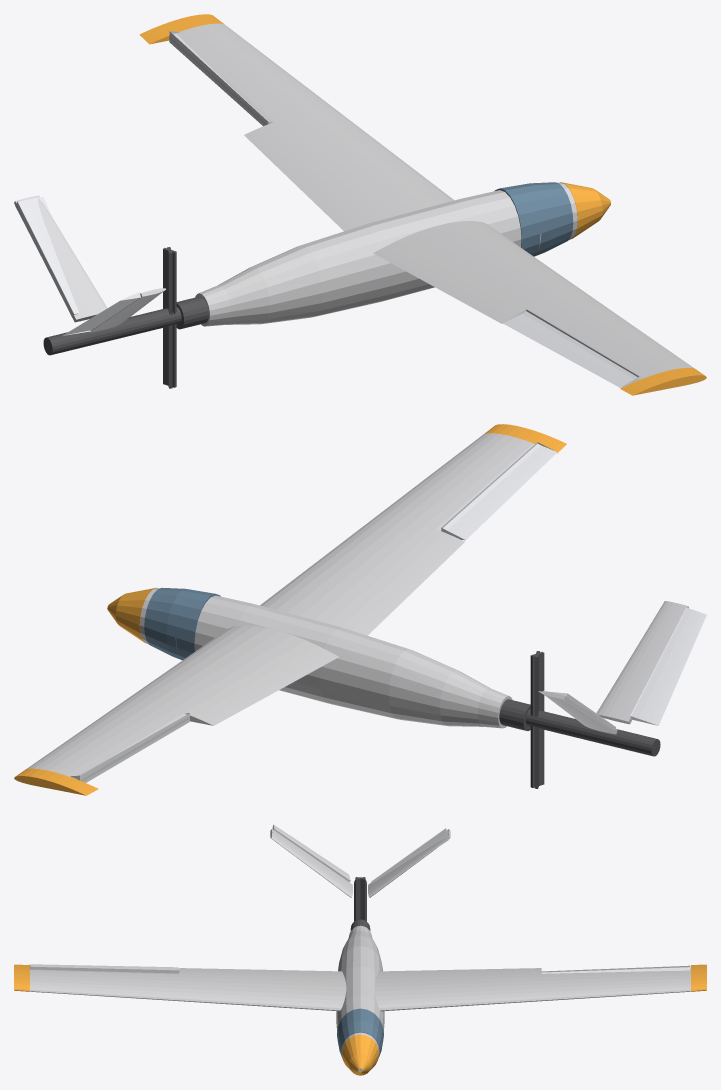
Rendered from talon_vtail.glb.
The picture shows the model from 3 angles, top to bottom: view 1: azimuth 30°, elevation 25°; view 2: azimuth 150°, elevation 25°; view 3: azimuth 270°, elevation 25°; orthographic projection. The views are drawn at different scales.
Parts seen in each view (by area): view 1: base_link_v0, base_link_v8, base_link_v5, base_link_v9, base_link_v6, base_link_v2, aileron_r_v0, base_link_v12, base_link_v3, ruddervator_l_v0, propeller_v0, base_link_v1 (+6 smaller); view 2: base_link_v0, base_link_v5, base_link_v8, base_link_v6, base_link_v9, base_link_v11, base_link_v2, ruddervator_r_v0, aileron_r_v0, base_link_v3, propeller_v0, base_link_v1 (+5 smaller); view 3: base_link_v5, base_link_v8, base_link_v6, base_link_v9, base_link_v0, base_link_v2, base_link_v1, base_link_v11, aileron_r_v0, base_link_v12, aileron_l_v0, ruddervator_r_v0 (+4 smaller).
Boxes of the visible parts, left/top/right/bottom form: base_link_v0: left=195, top=182, right=577, bottom=326; base_link_v8: left=244, top=109, right=454, bottom=231; base_link_v5: left=373, top=221, right=594, bottom=323; base_link_v9: left=169, top=23, right=336, bottom=125; base_link_v6: left=531, top=298, right=694, bottom=379; base_link_v2: left=494, top=182, right=573, bottom=256; aileron_r_v0: left=503, top=309, right=639, bottom=387; base_link_v12: left=14, top=195, right=107, bottom=322; base_link_v3: left=43, top=307, right=181, bottom=355; ruddervator_l_v0: left=15, top=196, right=79, bottom=316; propeller_v0: left=163, top=247, right=176, bottom=388; base_link_v1: left=560, top=182, right=610, bottom=238; base_link_v0: left=140, top=588, right=512, bottom=728; base_link_v5: left=260, top=516, right=464, bottom=635; base_link_v8: left=123, top=625, right=338, bottom=725; base_link_v6: left=375, top=433, right=534, bottom=530; base_link_v9: left=26, top=700, right=189, bottom=781; base_link_v11: left=596, top=601, right=688, bottom=724; base_link_v2: left=144, top=587, right=220, bottom=660; ruddervator_r_v0: left=630, top=607, right=706, bottom=725; aileron_r_v0: left=441, top=442, right=557, bottom=540; base_link_v3: left=525, top=709, right=660, bottom=756; propeller_v0: left=530, top=651, right=544, bottom=788; base_link_v1: left=107, top=587, right=156, bottom=643; base_link_v5: left=179, top=968, right=346, bottom=1011; base_link_v8: left=374, top=968, right=541, bottom=1011; base_link_v6: left=30, top=969, right=179, bottom=1000; base_link_v9: left=541, top=969, right=690, bottom=1000; base_link_v0: left=336, top=925, right=384, bottom=1072; base_link_v2: left=337, top=1008, right=383, bottom=1057; base_link_v1: left=341, top=1034, right=379, bottom=1075; base_link_v11: left=270, top=829, right=352, bottom=897; aileron_r_v0: left=29, top=964, right=179, bottom=973; base_link_v12: left=368, top=829, right=450, bottom=897; aileron_l_v0: left=541, top=965, right=690, bottom=973; ruddervator_r_v0: left=272, top=824, right=350, bottom=881.
Size of the model in its own units: 1.13 by 0.3111 by 1.72.
